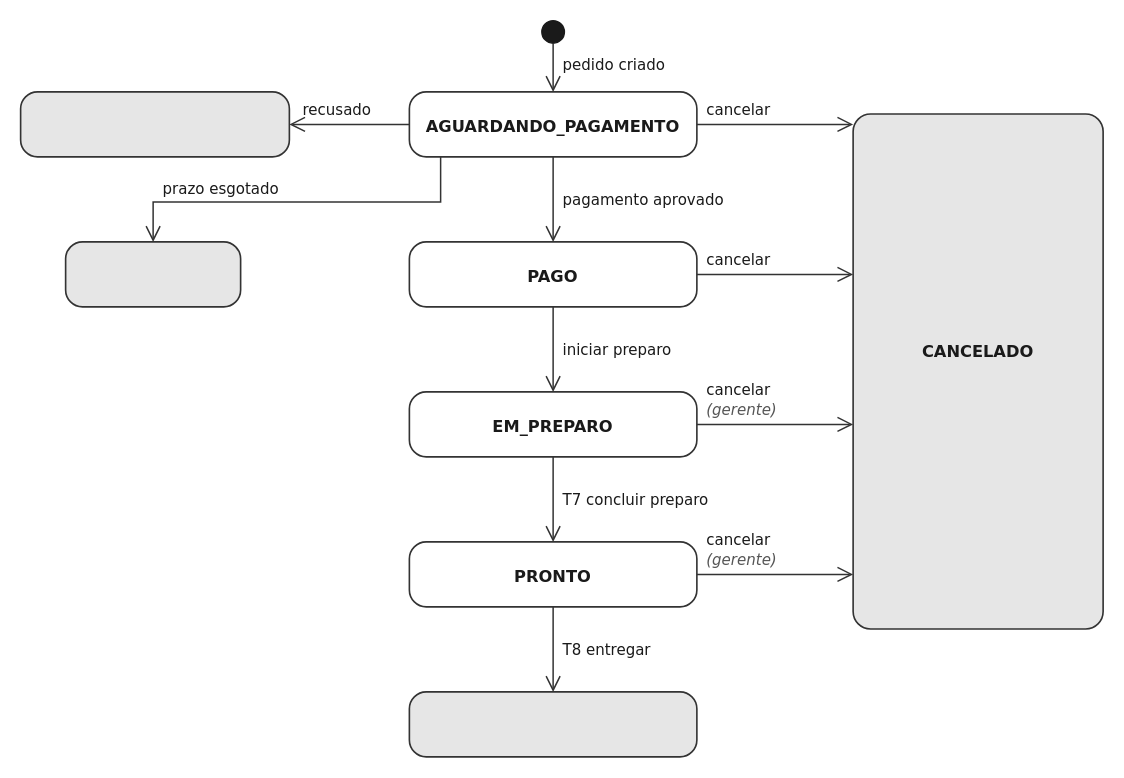
Image size: 1124x778. Some labels were removed from this diagram. Here are the shapes that lost their labels. From the top down, the centre of each, then its label:
At point 154,123: "PAGAMENTO_RECUSADO".
At point 152,273: "EXPIRADO".
At point 552,723: "ENTREGUE".
